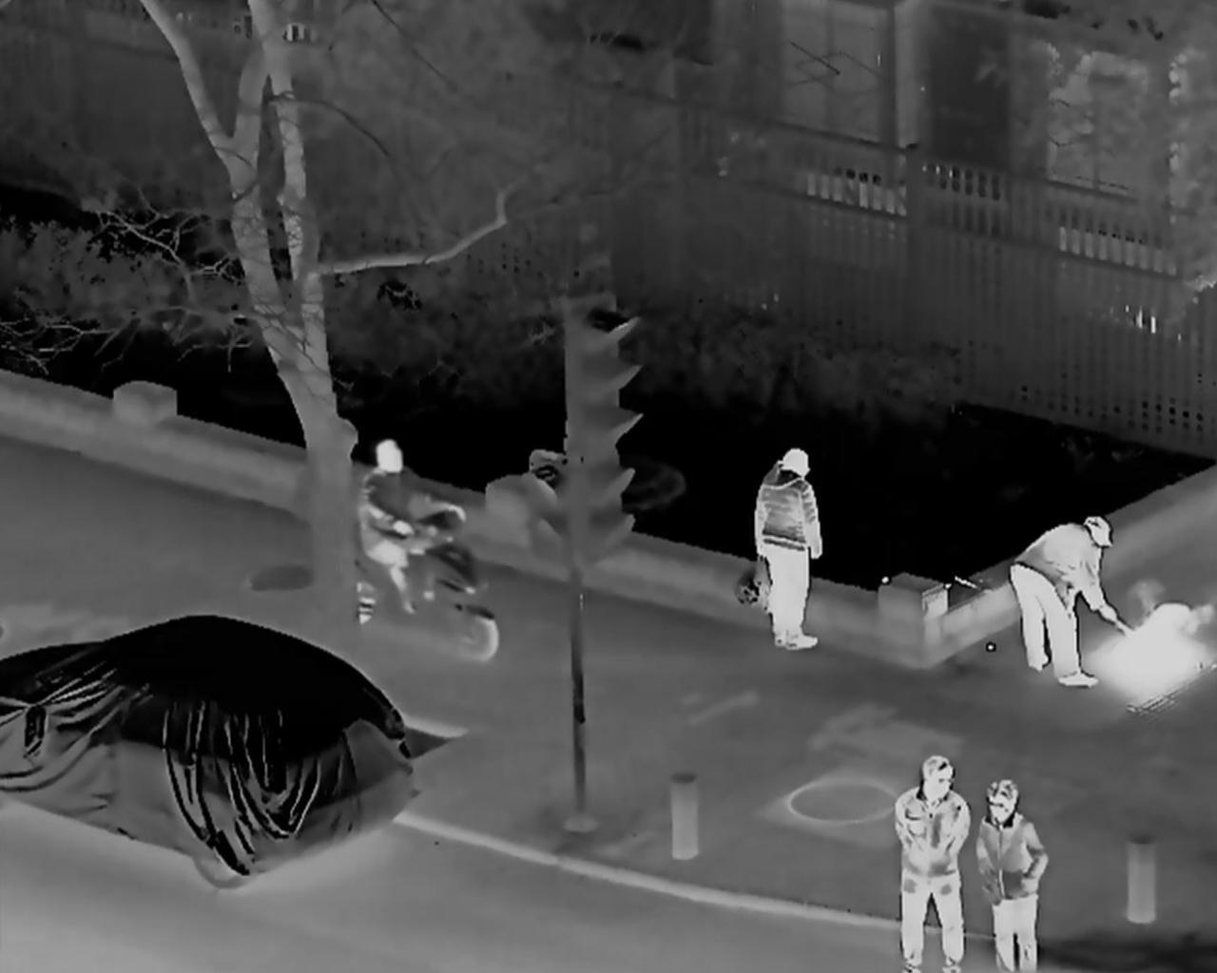person: (1008, 509, 1119, 687), (364, 443, 469, 611), (892, 754, 972, 972), (749, 448, 829, 653), (976, 780, 1045, 970)
